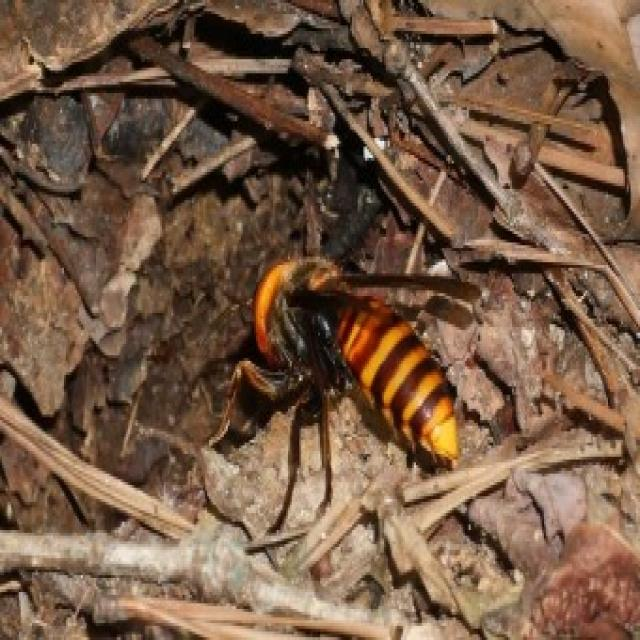Wasp: (233, 176, 468, 504)
